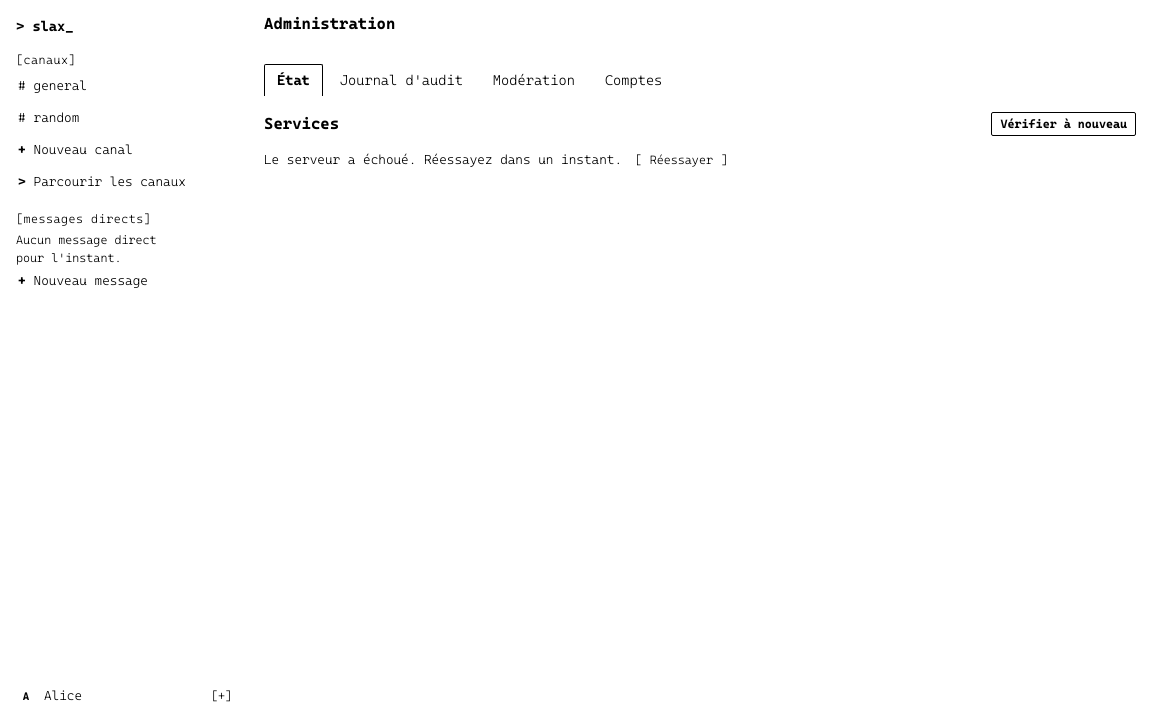
Scenario: administration › shows errors translated, never as codes
This screenshot has width=1152, height=720.
Click the tab "Modération" at x=534, y=80, box x1=480 y1=64 x2=588 y2=96
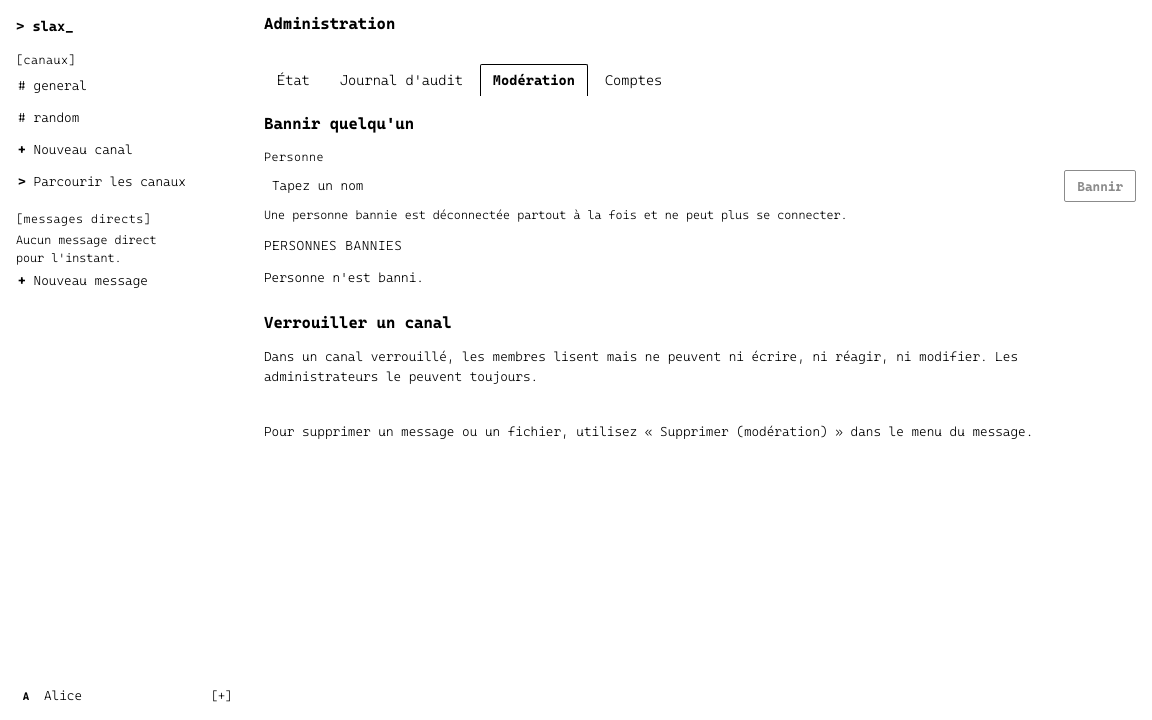
Type "da" into the dropdown labelled "Personne" at x=658, y=186, box x1=272 y1=174 x2=1044 y2=198
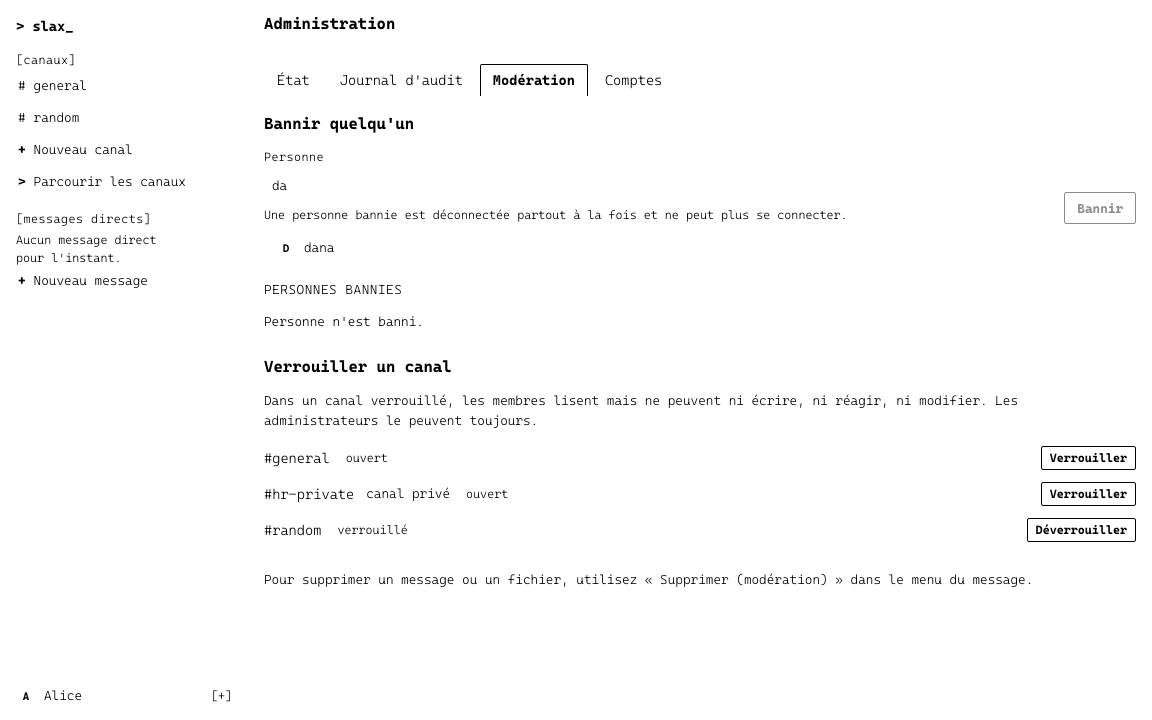
Press Enter in the dropdown labelled "Personne", box x1=272 y1=174 x2=1044 y2=198
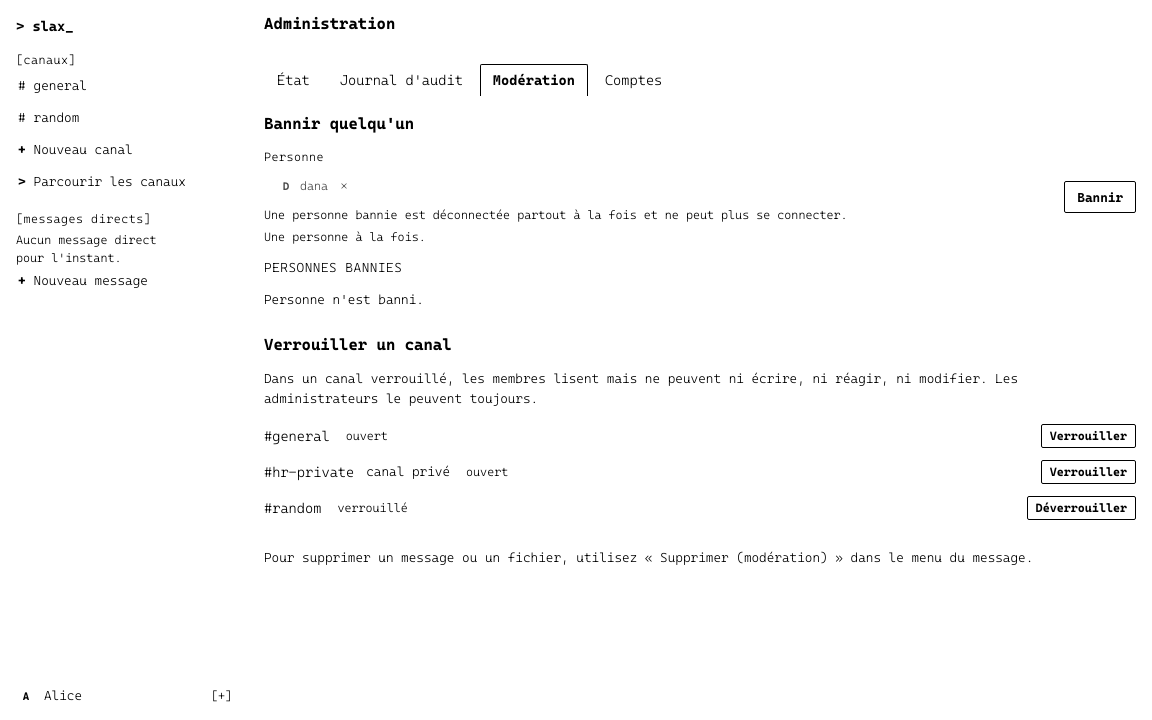
Click the button "Bannir" at x=1100, y=197, box x1=1064 y1=181 x2=1136 y2=213
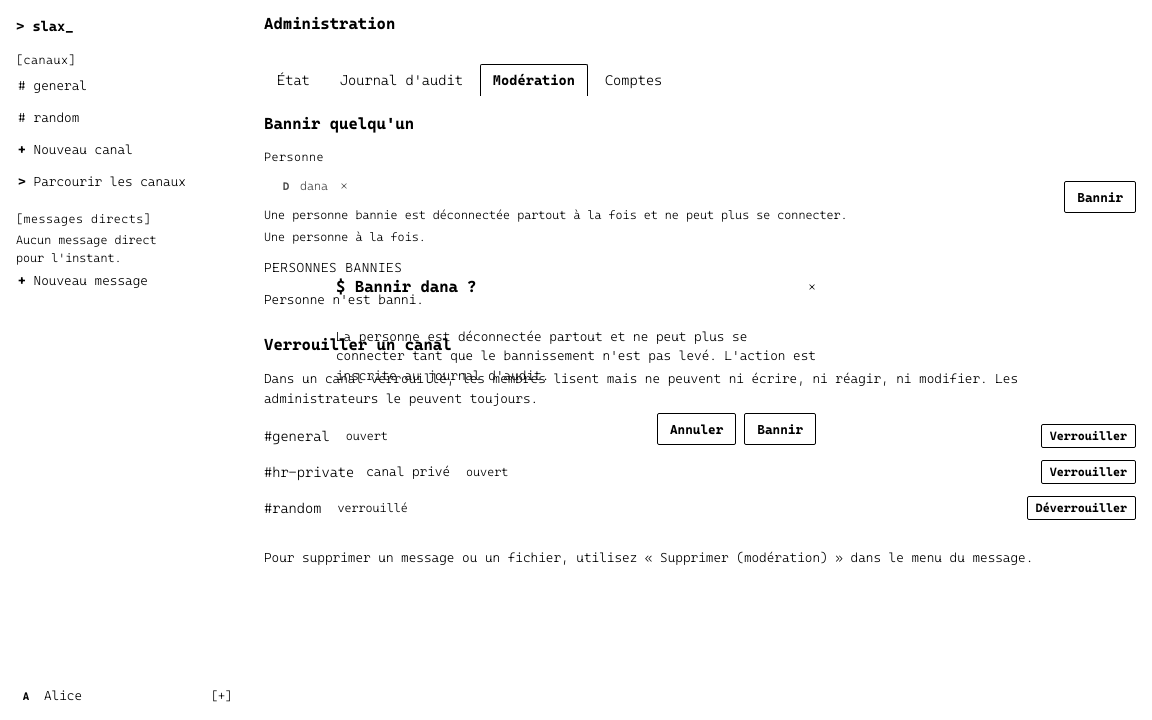
Click the button "Bannir" at x=780, y=429, box x1=744 y1=413 x2=816 y2=445
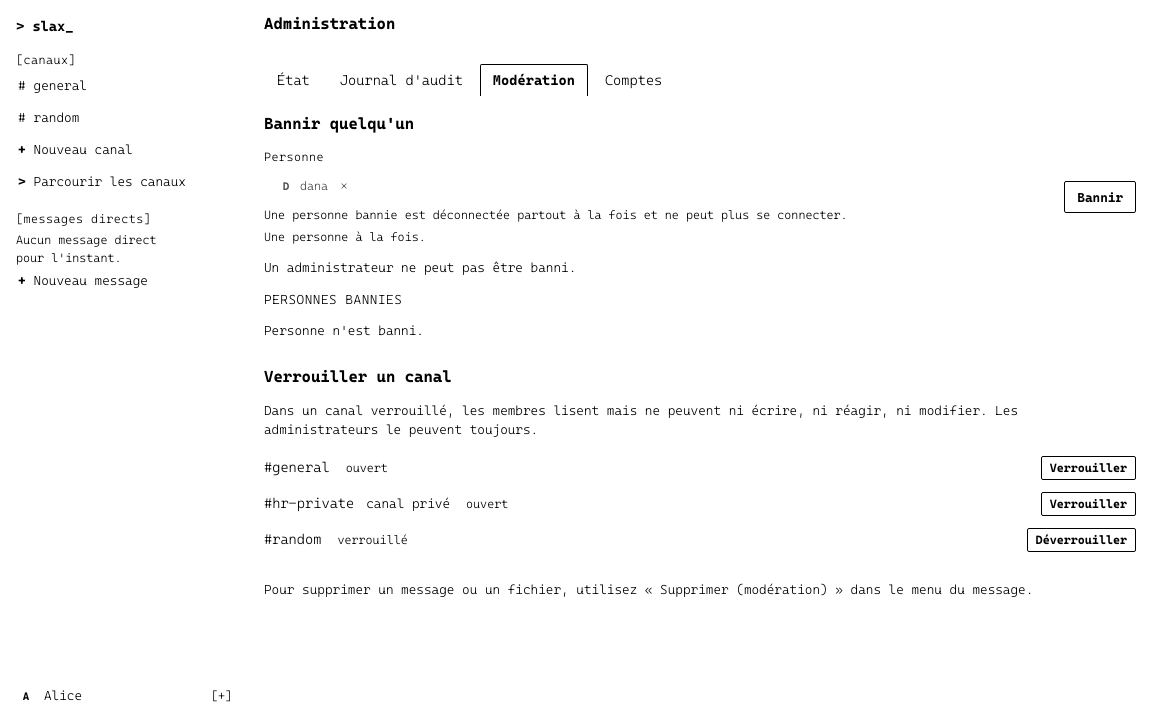
Check: the message with class "admin__error" reads "Un administrateur ne peut pas être banni.", box x1=264 y1=260 x2=576 y2=275
